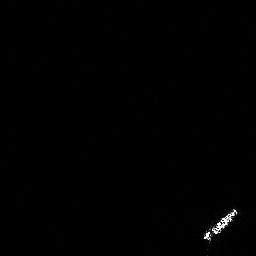ship: (199, 205, 243, 244)
